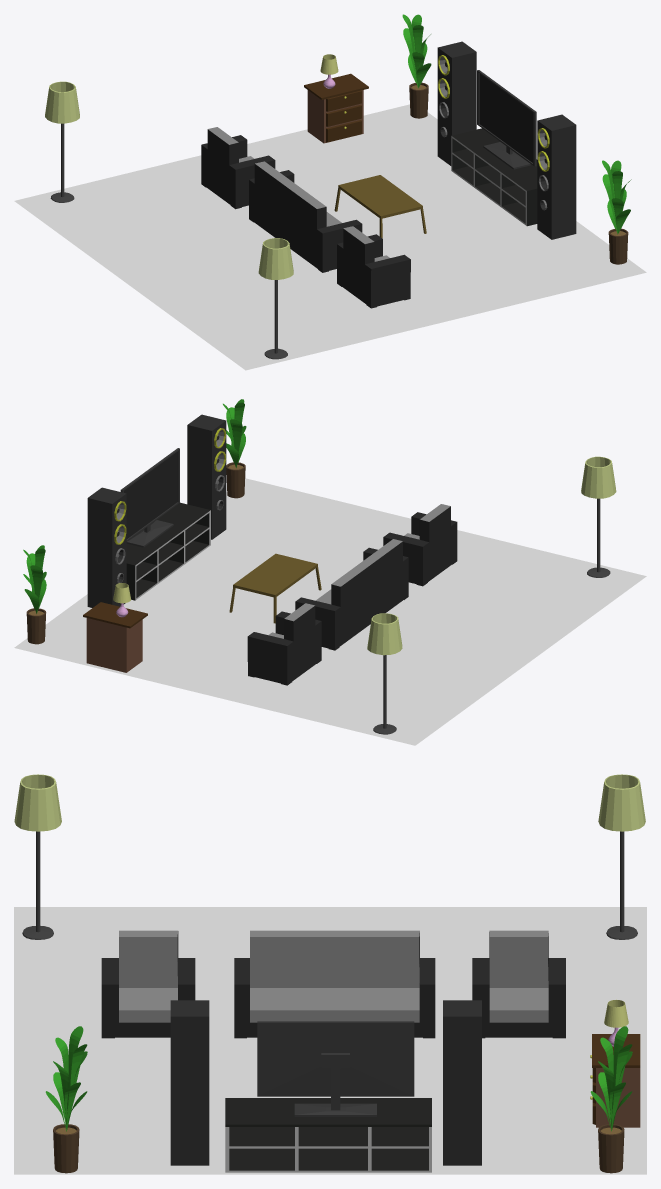
File: uploads_files_2553986_living_room_furnitures.fbx
3 views of the same model, one above another, from view 1: azimuth 30°, elevation 25°; view 2: azimuth 150°, elevation 25°; view 3: azimuth 270°, elevation 25° (orthographic). The views are drawn at different scales.
Parts seen in each view (by area): view 1: floor(not necessary, sofa_m, hometheater_right, tvtable, sofa_r, tv, hometheater_left, sofa_l, drawer, coffetable, plant2, plant (+2 smaller); view 2: floor(not necessary, sofa_m, tvtable, sofa_l, hometheater_left, hometheater_right, tv, sofa_r, drawer, coffetable, lamp_1, lamp_2 (+2 smaller); view 3: floor(not necessary, sofa_m, tvtable, tv, sofa_l, sofa_r, hometheater_right, hometheater_left, plant, plant2, lamp_1, lamp_2 (+2 smaller).
Part boxes in pixels (x1=…): floor(not necessary: x1=14, y1=104, x2=646, y2=370; sofa_m: x1=249, y1=161, x2=362, y2=272; hometheater_right: x1=537, y1=114, x2=576, y2=239; tvtable: x1=451, y1=128, x2=537, y2=226; sofa_r: x1=337, y1=226, x2=410, y2=308; tv: x1=477, y1=70, x2=536, y2=169; hometheater_left: x1=437, y1=41, x2=476, y2=165; sofa_l: x1=201, y1=127, x2=275, y2=209; drawer: x1=304, y1=73, x2=368, y2=143; coffetable: x1=334, y1=175, x2=426, y2=238; plant2: x1=402, y1=14, x2=431, y2=118; plant: x1=602, y1=160, x2=631, y2=264; floor(not necessary: x1=14, y1=478, x2=646, y2=745; sofa_m: x1=295, y1=539, x2=408, y2=650; tvtable: x1=126, y1=502, x2=210, y2=600; sofa_l: x1=247, y1=603, x2=321, y2=685; hometheater_left: x1=87, y1=487, x2=126, y2=607; hometheater_right: x1=187, y1=414, x2=226, y2=539; tv: x1=120, y1=448, x2=179, y2=547; sofa_r: x1=383, y1=504, x2=457, y2=586; drawer: x1=83, y1=602, x2=147, y2=672; coffetable: x1=229, y1=553, x2=321, y2=623; lamp_1: x1=367, y1=613, x2=402, y2=734; lamp_2: x1=581, y1=456, x2=616, y2=577; floor(not necessary: x1=14, y1=907, x2=646, y2=1174; sofa_m: x1=234, y1=930, x2=435, y2=1038; tvtable: x1=225, y1=1098, x2=431, y2=1172; tv: x1=257, y1=1021, x2=414, y2=1116; sofa_l: x1=472, y1=930, x2=565, y2=1038; sofa_r: x1=101, y1=930, x2=195, y2=1038; hometheater_right: x1=170, y1=1000, x2=209, y2=1165; hometheater_left: x1=443, y1=1000, x2=481, y2=1165; plant: x1=45, y1=1026, x2=87, y2=1173; plant2: x1=590, y1=1026, x2=632, y2=1173; lamp_1: x1=598, y1=774, x2=645, y2=939; lamp_2: x1=14, y1=774, x2=61, y2=939.
Bounding box in the file's own units: 1631 × 439 × 1626.
